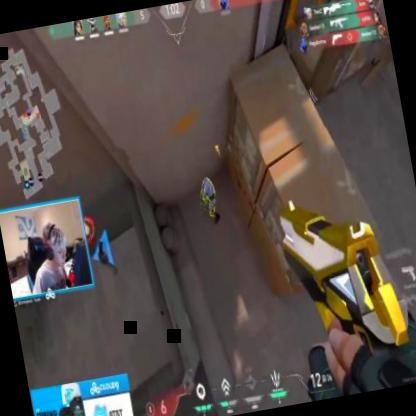enemy: (194, 172, 221, 225)
enemy_head: (202, 182, 212, 196)
